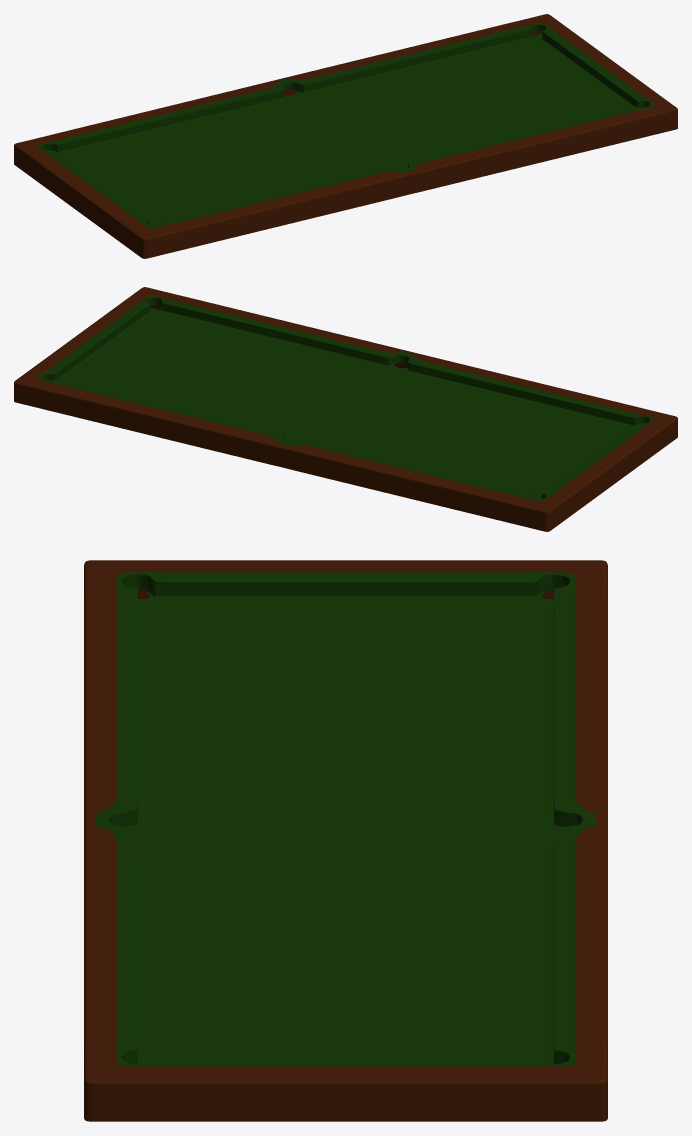
File: PoolTalbe_UV.fbx
The picture shows the model from 3 angles, top to bottom: view 1: azimuth 30°, elevation 25°; view 2: azimuth 150°, elevation 25°; view 3: azimuth 270°, elevation 25°; orthographic projection. The views are drawn at different scales.
Visible parts, largest first — view 1: Plane.001, Plane; view 2: Plane.001, Plane; view 3: Plane.001, Plane.
Boxes of the visible parts, x1,y1,x2,y2 form: Plane.001: (37,22,654,228); Plane: (14,14,677,258); Plane.001: (37,295,654,501); Plane: (14,287,677,531); Plane.001: (96,572,595,1066); Plane: (84,560,607,1121).
Size of the model in its own units: 1483 by 54.24 by 628.
